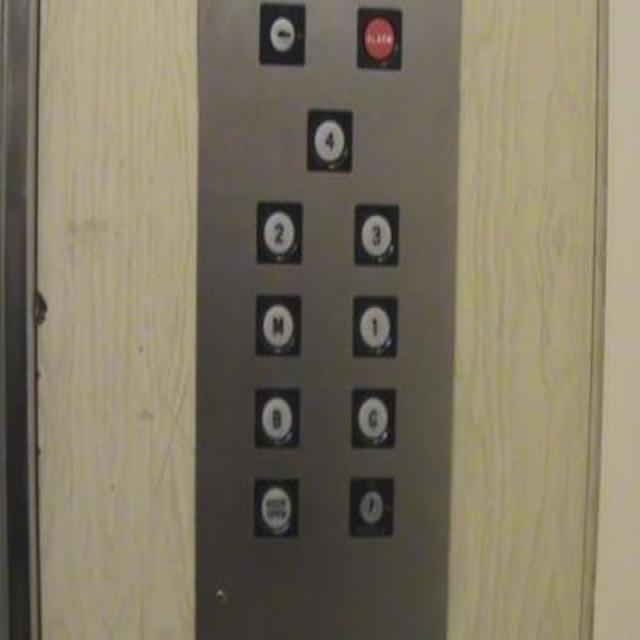1: (349, 291, 399, 360)
2: (252, 198, 304, 266)
3: (349, 199, 400, 268)
4: (304, 104, 354, 175)
B: (250, 384, 300, 451)
G: (348, 384, 398, 451)
M: (252, 289, 302, 359)
bt_keyhole: (346, 472, 394, 539)
keyhole: (255, 0, 308, 68)
text: (250, 475, 300, 540)
text_alarm bell: (353, 3, 403, 72)
